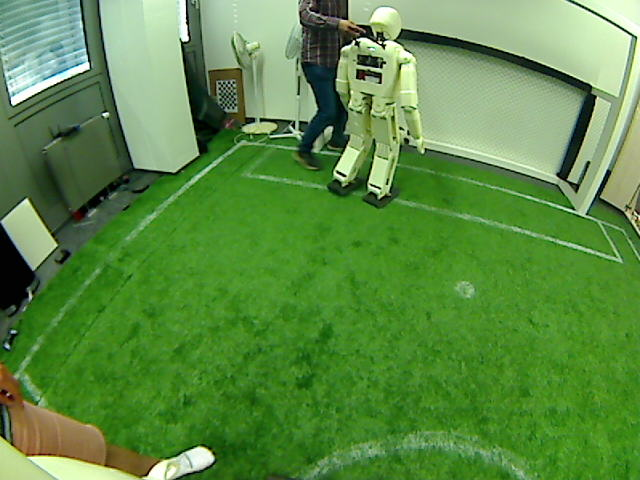ball: (400, 125, 409, 148)
goalpost: (570, 168, 593, 217), (306, 117, 323, 151)
robot: (331, 133, 397, 208)
